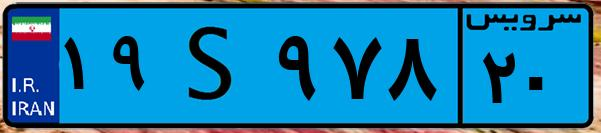0: (525, 38, 570, 115)
1: (57, 26, 110, 100)
2: (475, 38, 525, 113)
7: (330, 28, 385, 110)
8: (385, 28, 445, 110)
9: (270, 28, 330, 110), (110, 28, 158, 98)
S: (158, 12, 270, 120)
